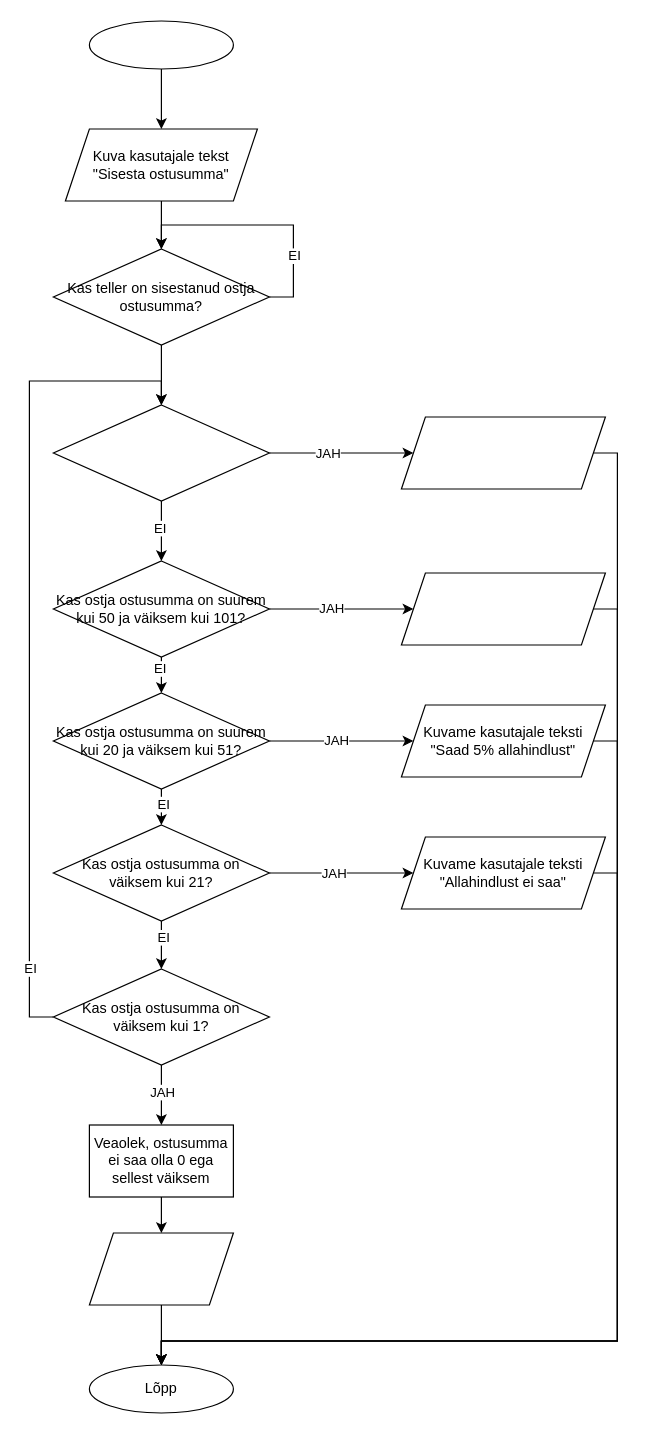
The diagram is 648 pixels wide and 1434 high, and some of its shapes have lost their labels. Each missing label, with the centre of its shape:
Algus: [160,44]
else: [160,452]
Kuva tekst "Sisestatud vigane arv": [160,1268]
Kuvame kasutajale teksti "Saad 10% allahindlust!": [502,608]
Kuvame kasutajale teksti "Saad 20% allahindlust!": [502,452]
